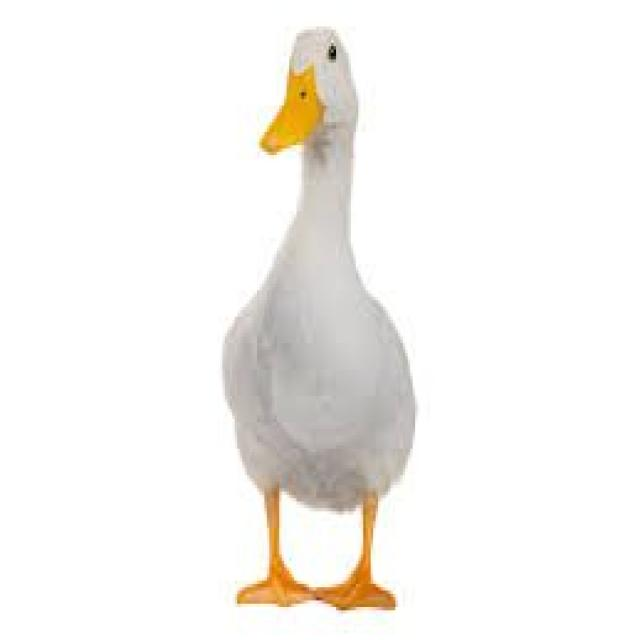Duck: (208, 29, 422, 611)
